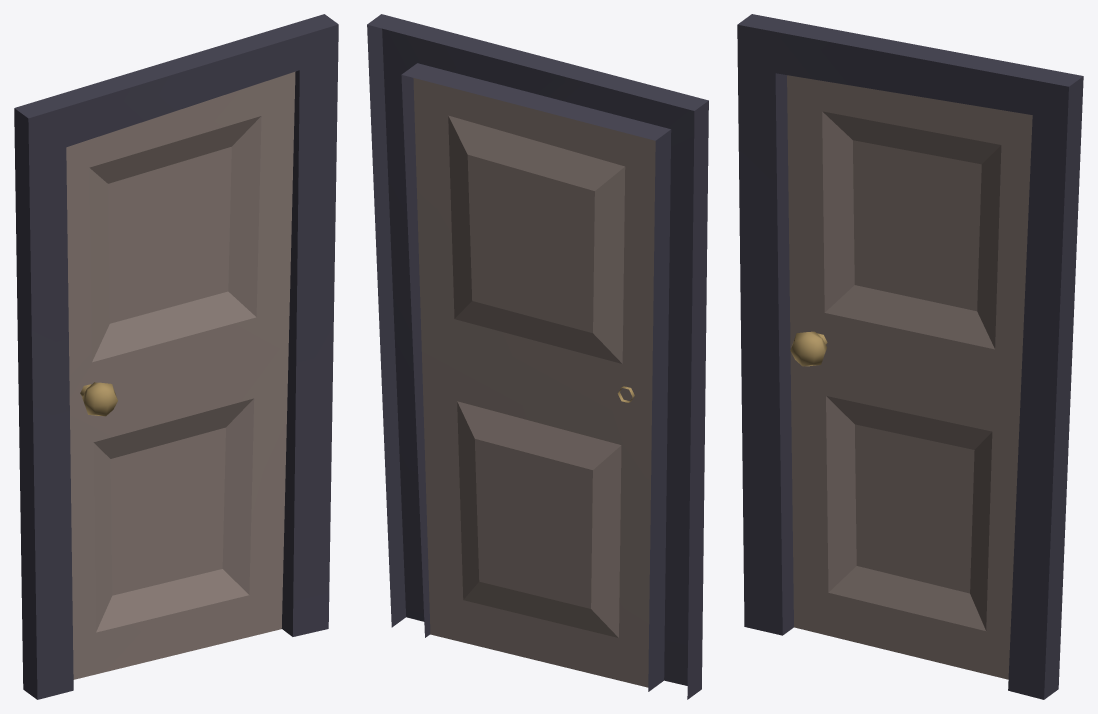
The model's file is puerta.fbx.
3 views of the same model, side by side, from view 1: azimuth 30°, elevation 25°; view 2: azimuth 150°, elevation 25°; view 3: azimuth 330°, elevation 25° (orthographic). The views are drawn at different scales.
Parts seen in each view (by area): view 1: polySurface16, polySurface17, pCube20; view 2: polySurface16, polySurface17; view 3: polySurface16, polySurface17, pCube20.
Part boxes in pixels (x1,y1,x2,y2): polySurface16: (66,71,295,679); polySurface17: (14,14,338,699); pCube20: (82,382,117,416); polySurface16: (413,78,655,687); polySurface17: (367,14,708,699); polySurface16: (787,75,1032,679); polySurface17: (737,14,1083,699); pCube20: (790,331,827,366).
Bounding box in the file's own units: 246 × 443 × 44.09.
